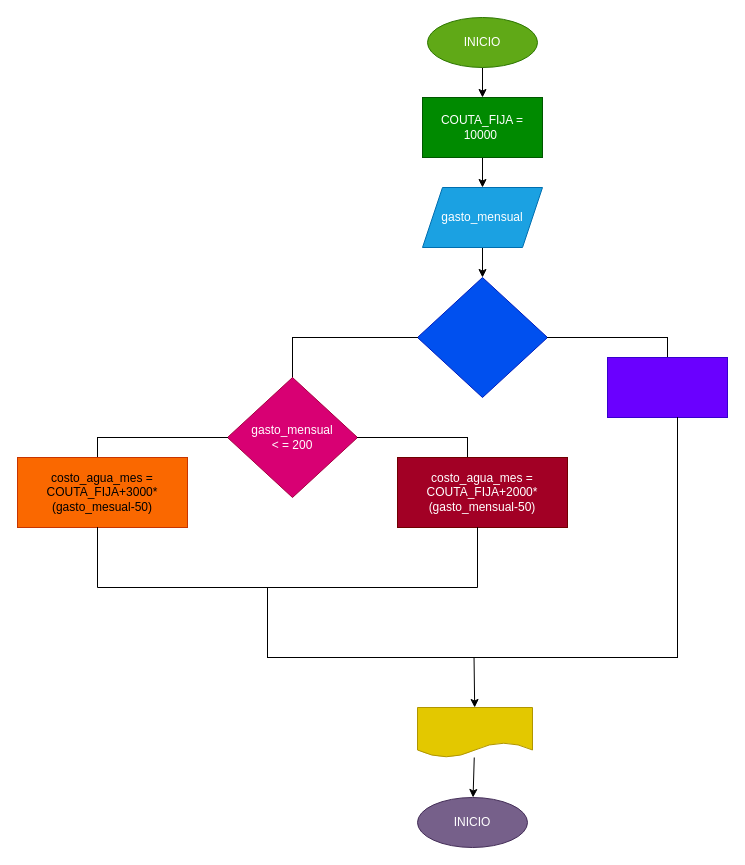
Some shapes in this 745 by 865 pixel diagram are drawn without their labels. The shapes that lost their labels are listed below. From the top down, each one's box as (x1, y1, x2, y2) in pixels, then its label:
(416, 276, 548, 398): gasto_mensual < = 50
(606, 356, 728, 418): costo_agua_mes = COUTA FIJA
(416, 706, 532, 758): costo_agua_mes
